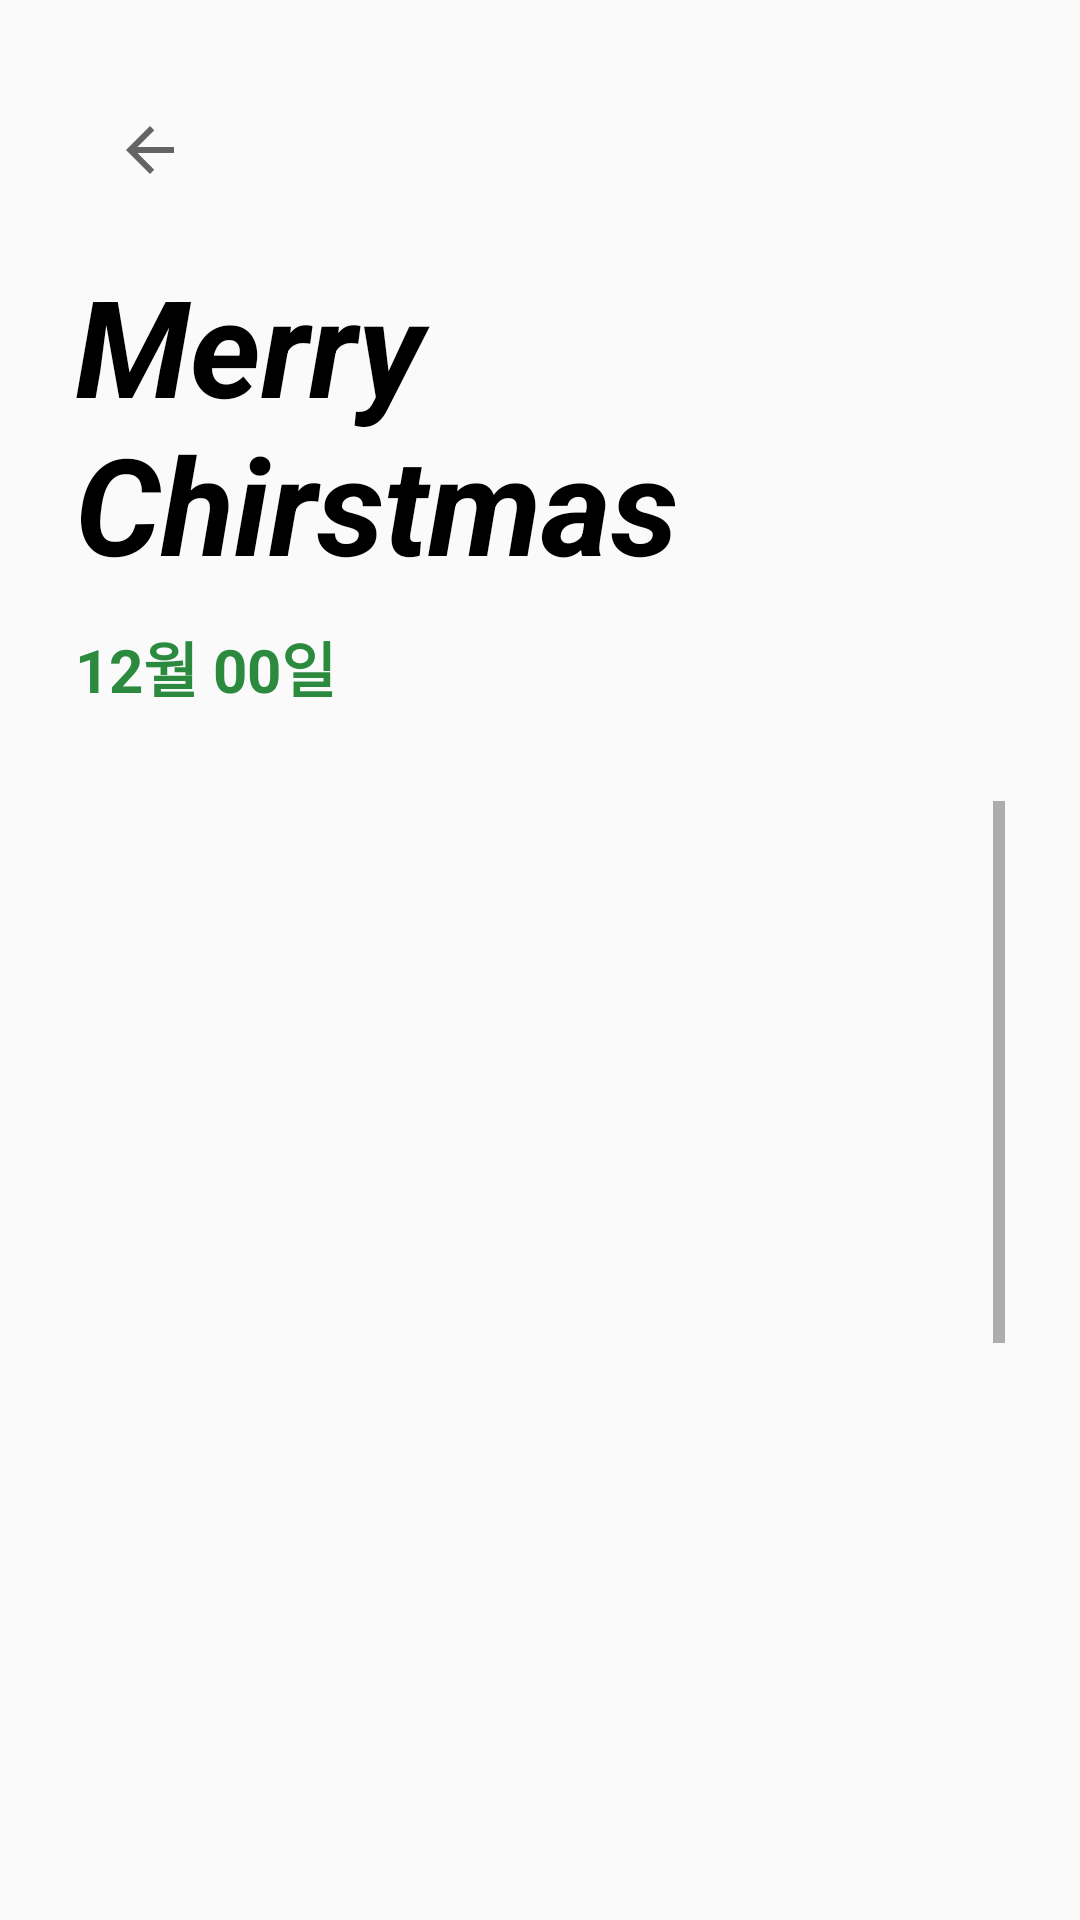

Icon click points for this 1080px×1920px phone screenshot, format (x,y):
back: (150,150)
